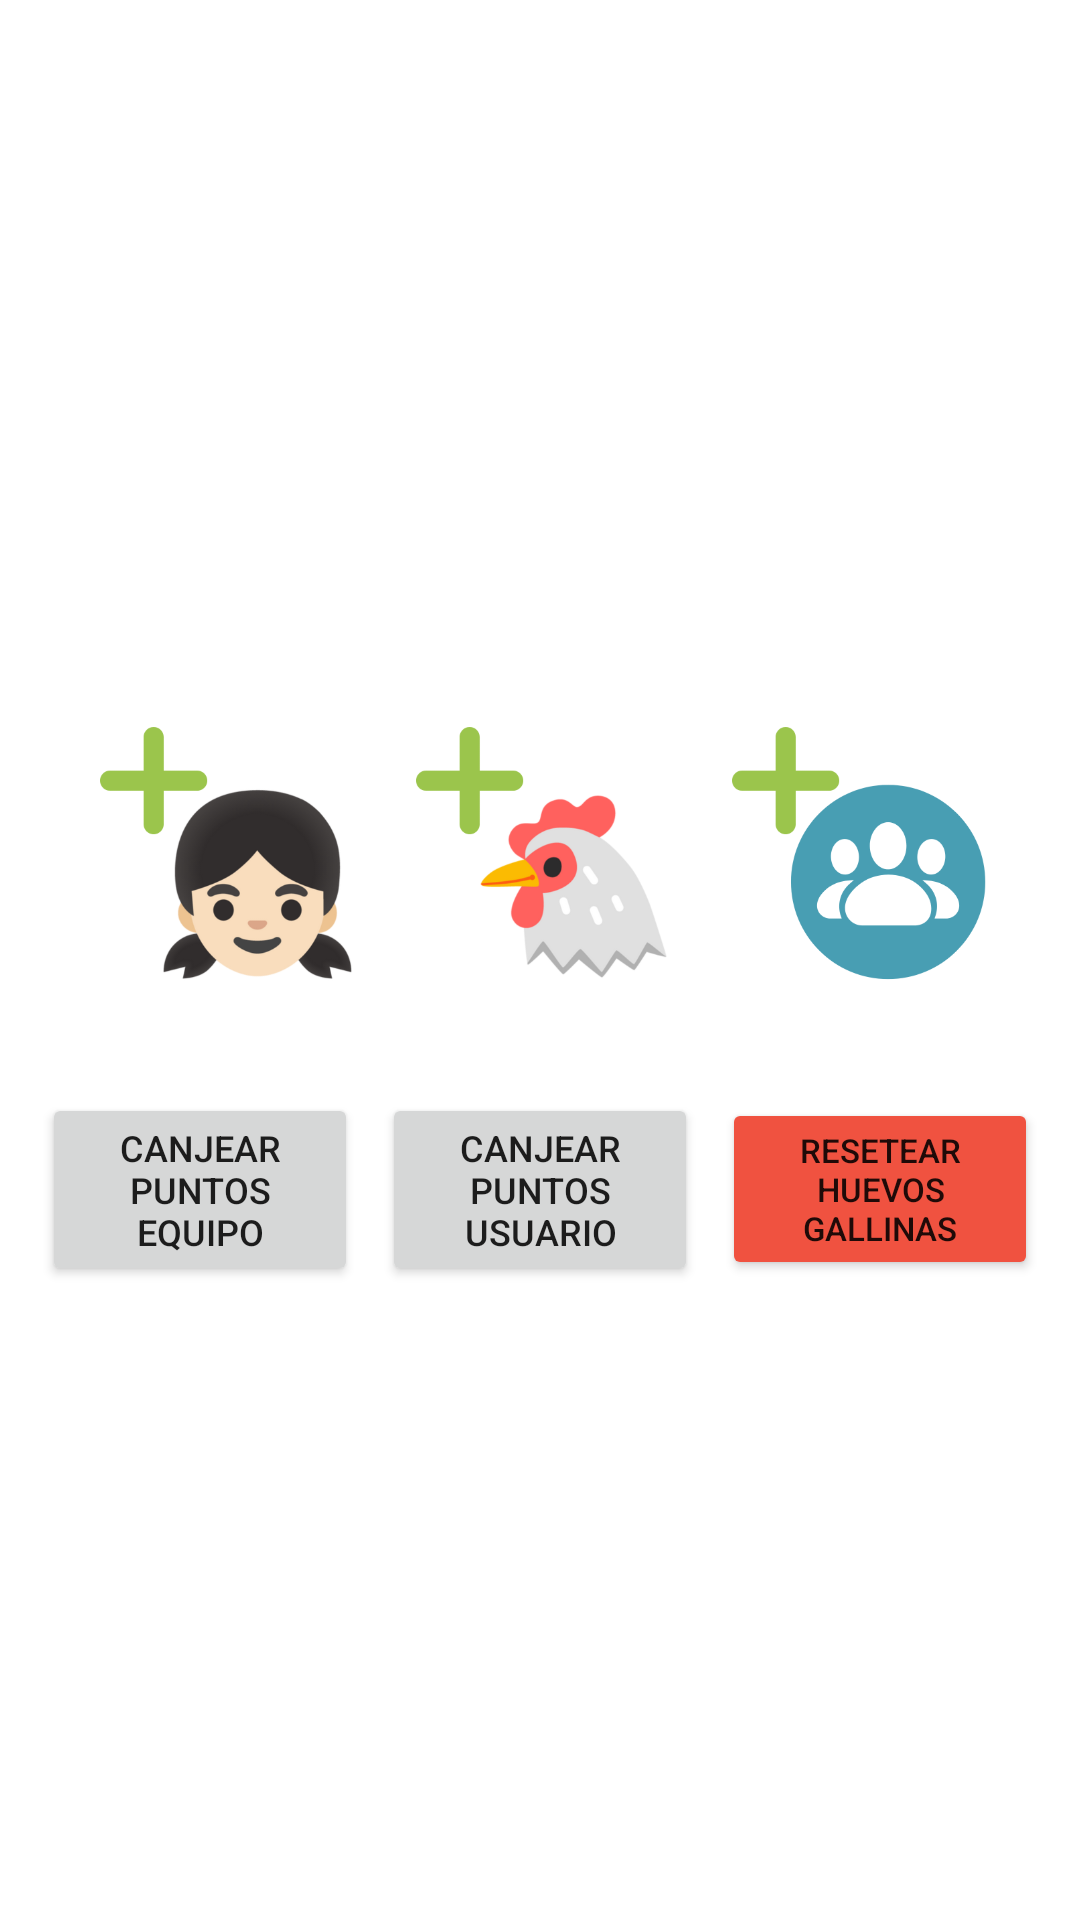

Named icons in this screenshot (1080 × 1920) and their bounding boxes, Rect(x1, y1, x2, y2):
add alumna: Rect(100, 727, 352, 979)
add equipo: Rect(732, 727, 986, 979)
add gallina: Rect(416, 727, 666, 977)
